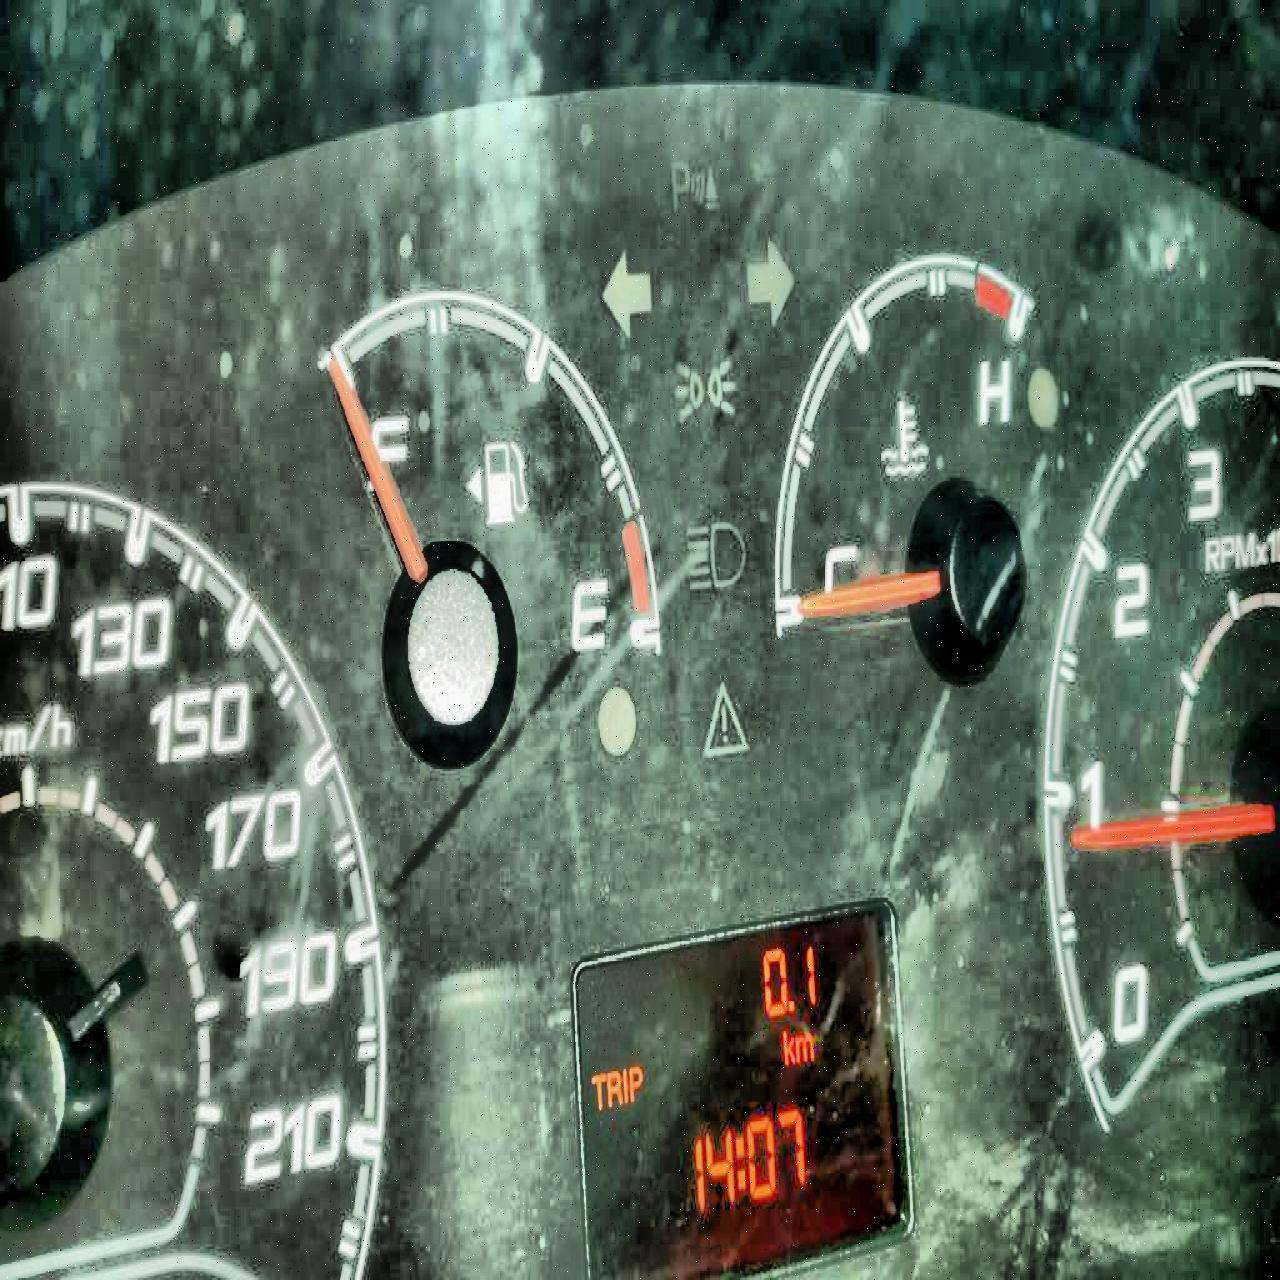-: (787, 994, 794, 1014)
0: (745, 1114, 776, 1200), (762, 945, 788, 1014)
1: (692, 1133, 703, 1213), (804, 940, 816, 1007)
4: (704, 1124, 734, 1205)
7: (776, 1104, 805, 1186)
X: (734, 1131, 745, 1191), (588, 1069, 605, 1111), (779, 1022, 795, 1064), (606, 1067, 621, 1107), (627, 1062, 642, 1102), (795, 1032, 813, 1062), (621, 1064, 627, 1104)
odometer: (568, 891, 919, 1275)
